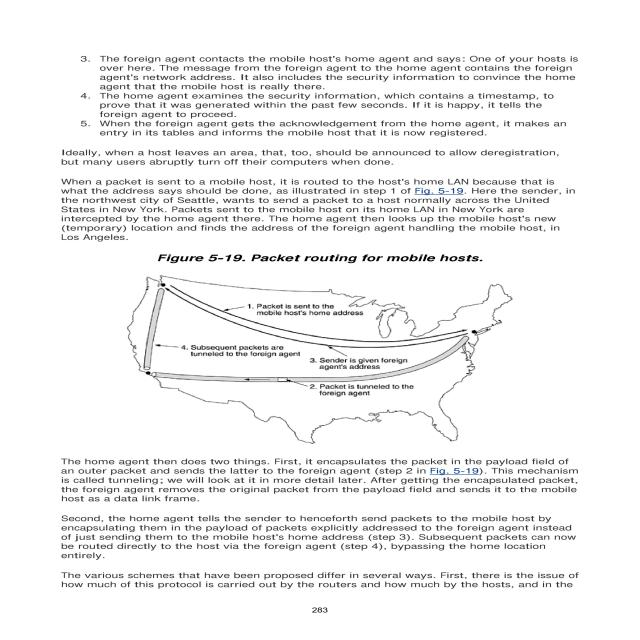diagram: (79, 246, 579, 448)
